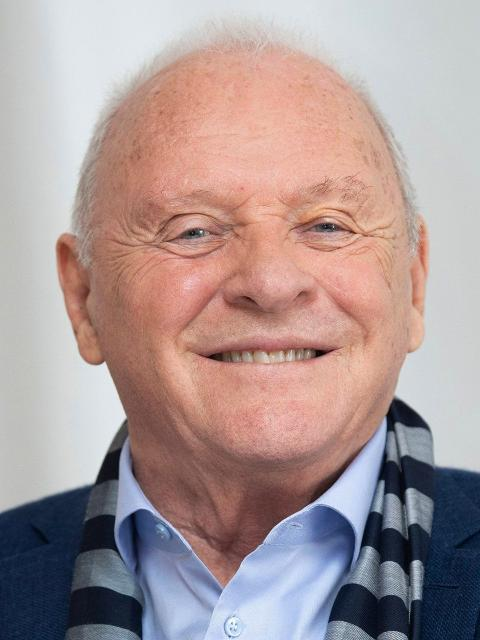crows_feet: (115, 220, 161, 274), (358, 219, 394, 261)
frown_line: (228, 188, 253, 216), (275, 193, 295, 225)
gummy_smile: (176, 278, 224, 330), (319, 280, 361, 332)
